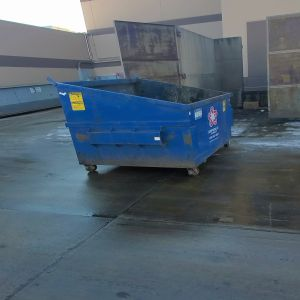Dumpster: (53, 77, 233, 178)
